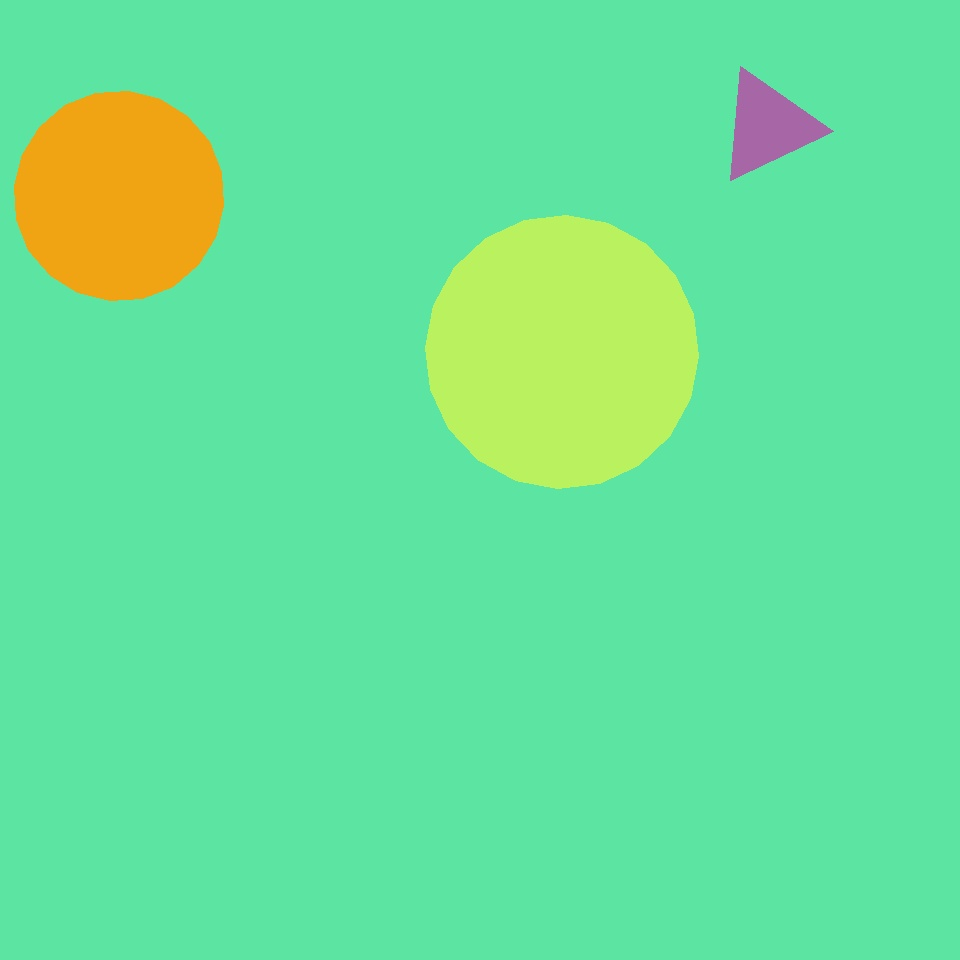circle: (345, 289, 615, 548), (66, 162, 187, 302), (717, 69, 820, 183)
square: (416, 811, 521, 917)
triangle: (510, 362, 853, 706), (426, 215, 698, 488), (15, 92, 224, 300), (663, 686, 819, 842)
